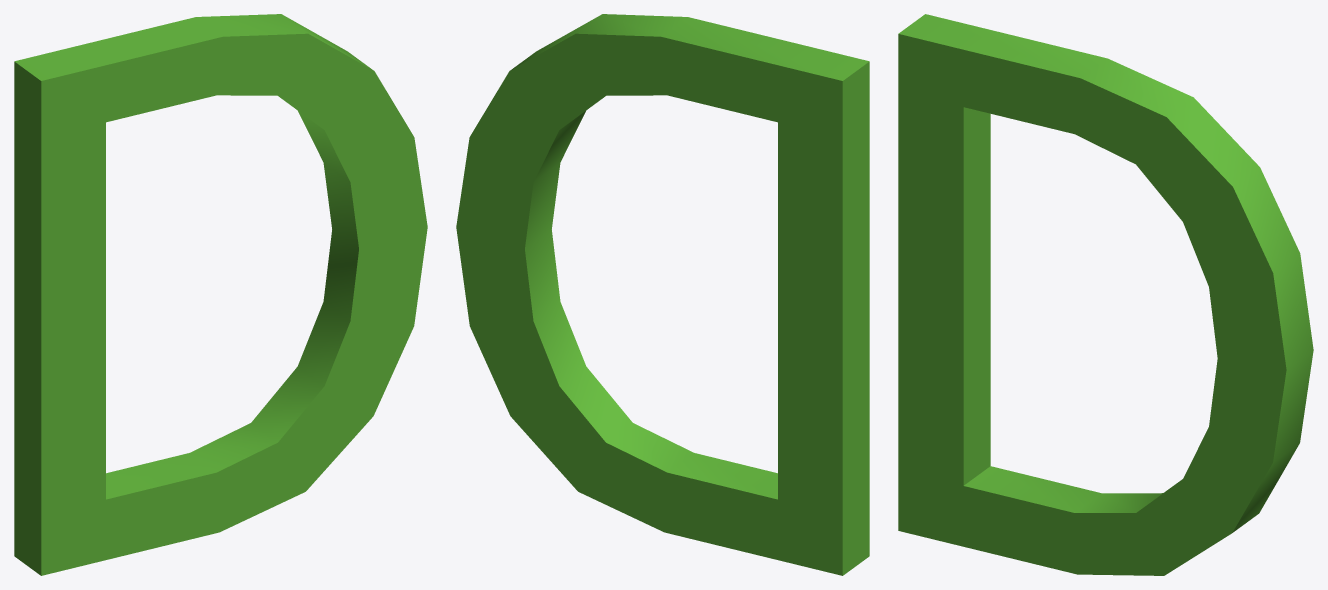
The model's file is letras.obj.
3 renders of one model, left to right at view 1: azimuth 30°, elevation 25°; view 2: azimuth 150°, elevation 25°; view 3: azimuth 330°, elevation 25°, orthographic.
Visible parts, largest first — view 1: D; view 2: D; view 3: D.
Boxes of the visible parts, left/top/right/bottom form: D: left=14, top=14, right=427, bottom=575; D: left=456, top=14, right=869, bottom=575; D: left=898, top=14, right=1313, bottom=575.
Bounding box in the file's own units: 0.828 × 1.01 × 0.1.
